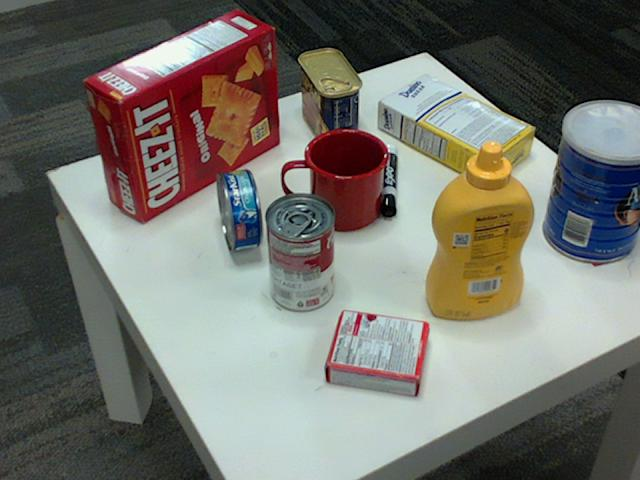cracker_box: (84, 7, 279, 220)
gelatin_box: (324, 310, 427, 398)
large_marker: (380, 147, 397, 216)
master_chef_can: (543, 100, 639, 263)
mug: (283, 126, 389, 229)
mustard_bottle: (425, 141, 535, 318)
potted_meat_can: (296, 49, 360, 148)
sugar_box: (378, 74, 537, 186)
tomato_soup_can: (265, 193, 335, 311)
tuna_fish_can: (216, 169, 262, 251)
